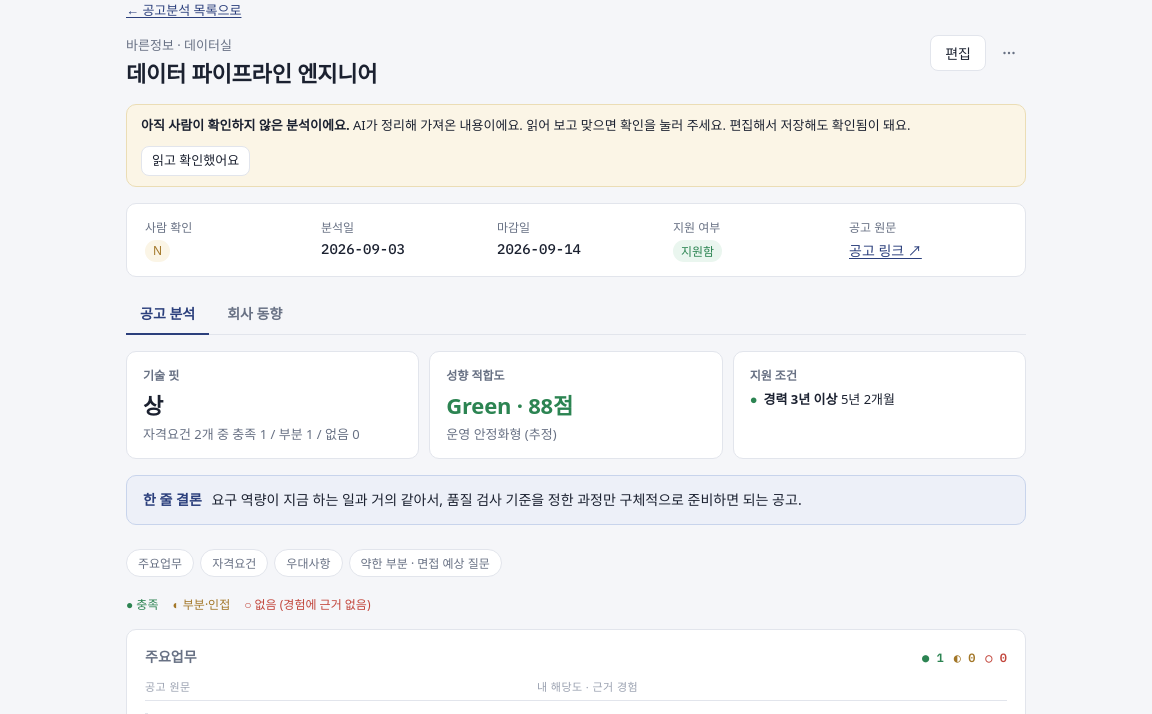
Test case: JobViewScreen › deletes after confirming and keeps the application
What coordinates should you click on to do the following:
click the button named "분석 메뉴"
I would click on:
 (1009, 53)
Its box is left=992, top=36, right=1026, bottom=70.
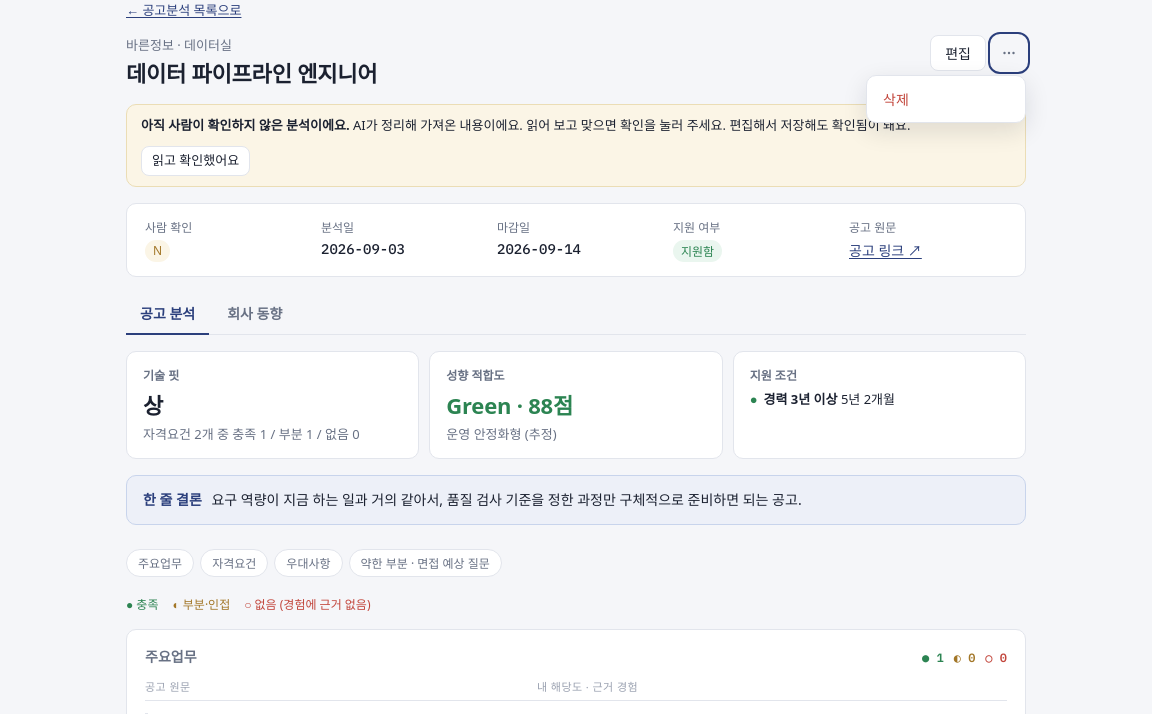
What coordinates should you click on to do the following:
click the menu item "삭제"
I would click on:
 (946, 99)
Its box is left=871, top=80, right=1021, bottom=118.
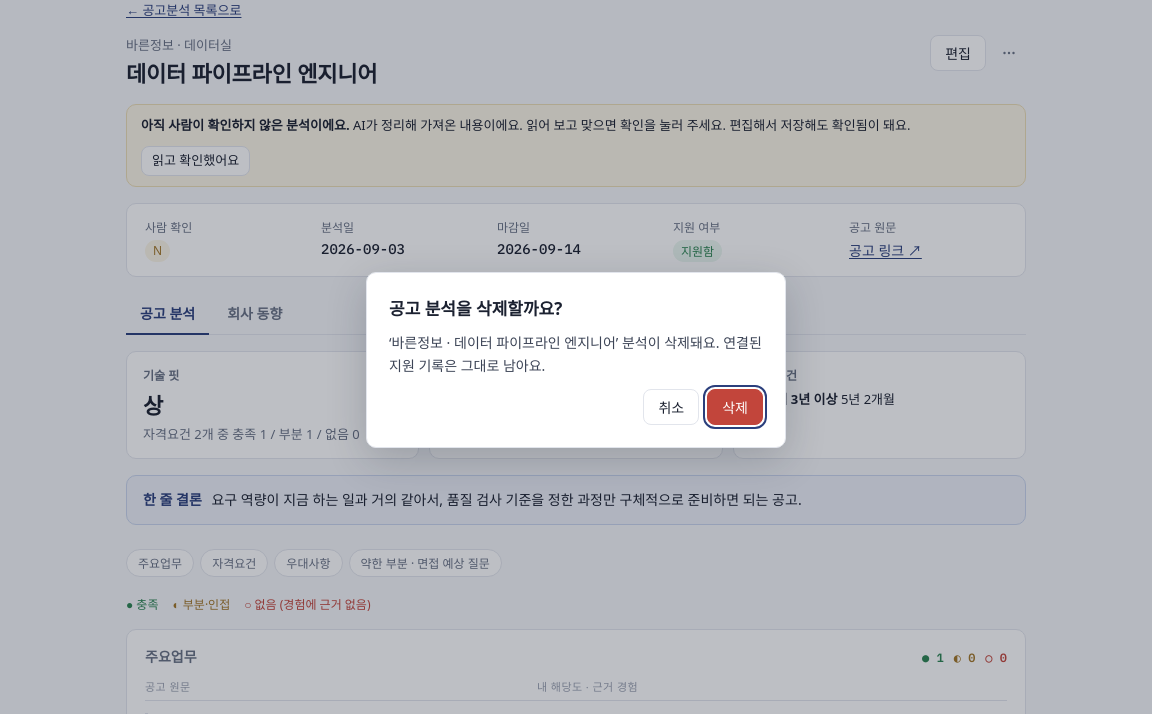
expect the dialog "공고 분석을 삭제할까요?" shows "‘바른정보 · 데이터 파이프라인 엔지니어’ 분석이 삭제돼요. 연결된 지원 기록은 그대로 남아요.": met, box left=366, top=272, right=786, bottom=448
What coordinates should you click on to do the following:
click the button "삭제"
I would click on:
 (735, 407)
Its box is left=707, top=389, right=763, bottom=425.
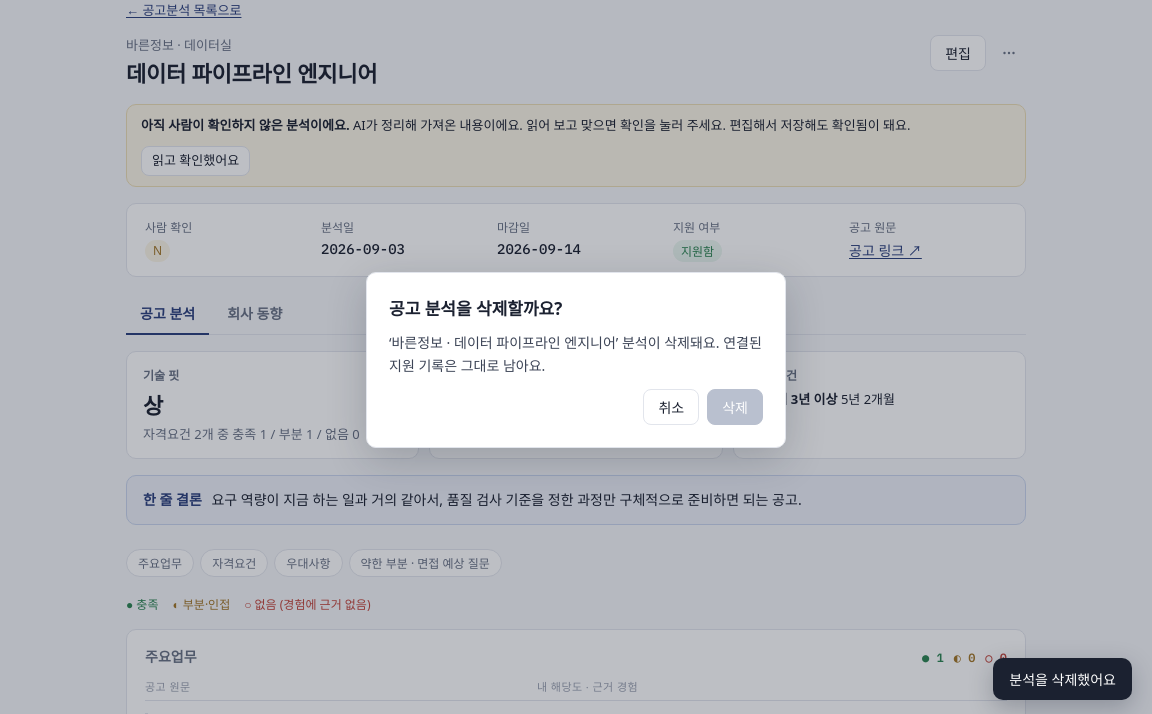
expect the message reads "분석을 삭제했어요": met, box left=1009, top=670, right=1116, bottom=689
